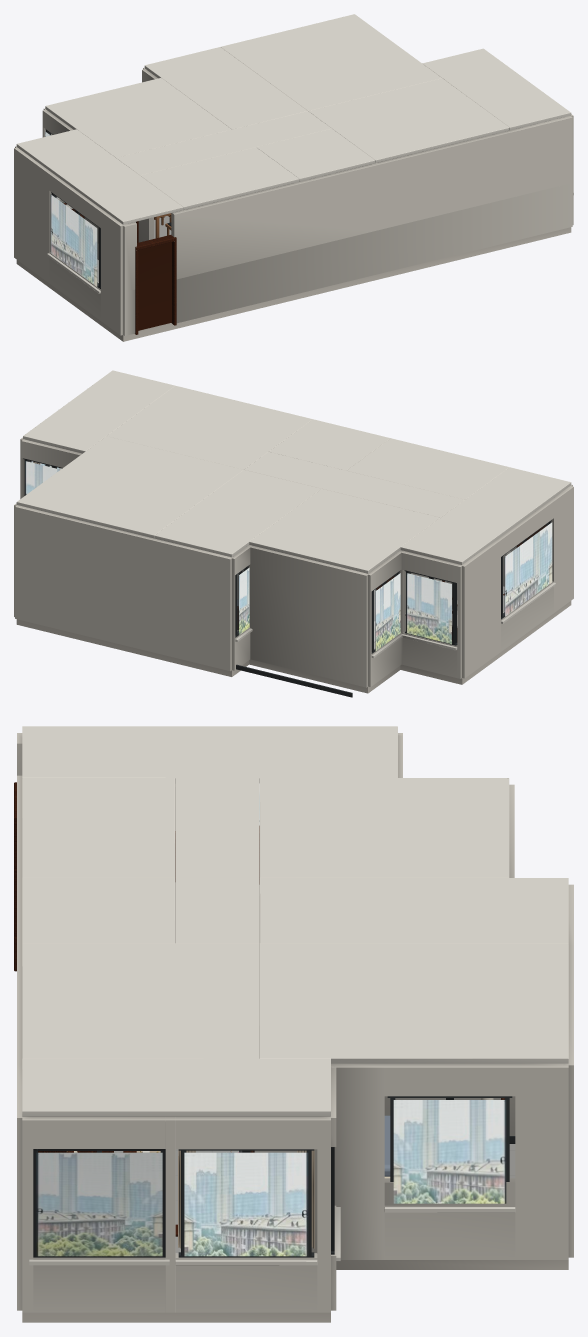
File: house.glb
3 renders of one model, top to bottom at view 1: azimuth 30°, elevation 25°; view 2: azimuth 150°, elevation 25°; view 3: azimuth 270°, elevation 25°, orthographic. The views are drawn at different scales.
Parts seen in each view (by area): view 1: shell__walk__white, shell__walk__wall, shell__orbit__wall, shell__shared__wall, balcony__shared__wall__Study south solid wall, shell__shared__source_2232ebe0, shell__shared__source_609be1f6, shell__walk__walnutDark, shell__walk__walnut; view 2: shell__walk__white, shell__shared__wall, shell__shared__source_2232ebe0, shell__shared__source_609be1f6, shell__shared__source_8985658d, shell__shared__graphite, shell__shared__source_6bc1db3e, shell__shared__white, shell__shared__source_c2ba2d56, shell__shared__source_dc4e3a3, shell__walk__wall; view 3: shell__walk__white, shell__walk__wall, balcony__shared__wall__Full study side window, balcony__shared__source_b7e642cb__Full study side window, shell__walk__source_b7e642cb, shell__walk__source_aac7d18d, shell__shared__source_2232ebe0, shell__shared__wall, shell__walk__graphite, shell__orbit__wall, balcony__shared__graphite__Full study side window, balcony__shared__wall__Study south solid wall (+2 smaller).
Part boxes in pixels (x1=…): shell__walk__white: x1=16, y1=14, x2=571, y2=224; shell__walk__wall: x1=84, y1=131, x2=510, y2=335; shell__orbit__wall: x1=123, y1=183, x2=572, y2=335; shell__shared__wall: x1=14, y1=67, x2=157, y2=335; balcony__shared__wall__Study south solid wall: x1=509, y1=116, x2=572, y2=197; shell__shared__source_2232ebe0: x1=16, y1=227, x2=571, y2=341; shell__shared__source_609be1f6: x1=50, y1=194, x2=97, y2=286; shell__walk__walnutDark: x1=138, y1=242, x2=171, y2=330; shell__walk__walnut: x1=135, y1=221, x2=176, y2=334; shell__walk__white: x1=16, y1=370, x2=571, y2=573; shell__shared__wall: x1=15, y1=439, x2=573, y2=687; shell__shared__source_2232ebe0: x1=16, y1=601, x2=571, y2=693; shell__shared__source_609be1f6: x1=504, y1=522, x2=552, y2=616; shell__shared__source_8985658d: x1=406, y1=573, x2=451, y2=644; shell__shared__graphite: x1=23, y1=458, x2=551, y2=697; shell__shared__source_6bc1db3e: x1=375, y1=573, x2=400, y2=651; shell__shared__white: x1=235, y1=582, x2=555, y2=658; shell__shared__source_c2ba2d56: x1=239, y1=567, x2=249, y2=634; shell__shared__source_dc4e3a3: x1=25, y1=461, x2=60, y2=495; shell__walk__wall: x1=14, y1=437, x2=572, y2=630; shell__walk__white: x1=22, y1=726, x2=568, y2=1265; shell__walk__wall: x1=17, y1=733, x2=568, y2=1312; balcony__shared__wall__Full study side window: x1=22, y1=1116, x2=175, y2=1312; balcony__shared__source_b7e642cb__Full study side window: x1=36, y1=1152, x2=162, y2=1256; shell__walk__source_b7e642cb: x1=184, y1=1152, x2=308, y2=1256; shell__walk__source_aac7d18d: x1=393, y1=1100, x2=506, y2=1203; shell__shared__source_2232ebe0: x1=22, y1=1260, x2=568, y2=1322; shell__shared__wall: x1=326, y1=733, x2=573, y2=1310; shell__walk__graphite: x1=178, y1=1096, x2=512, y2=1257; shell__orbit__wall: x1=17, y1=1096, x2=515, y2=1310; balcony__shared__graphite__Full study side window: x1=33, y1=1149, x2=165, y2=1257; balcony__shared__wall__Study south solid wall: x1=17, y1=1064, x2=27, y2=1232.
Bounding box in the file's own units: 12.53 × 3.14 × 7.54.
178 materials, 54 textured.
